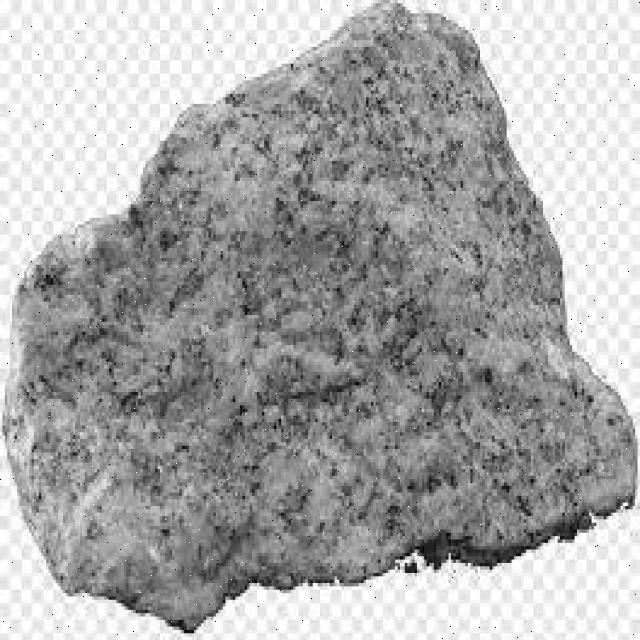Metamorphic: (3, 4, 635, 606)
